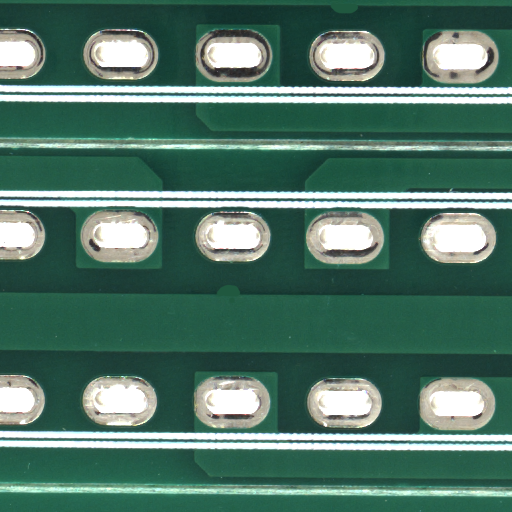Spur: (344, 9, 376, 20), (227, 290, 251, 302)
